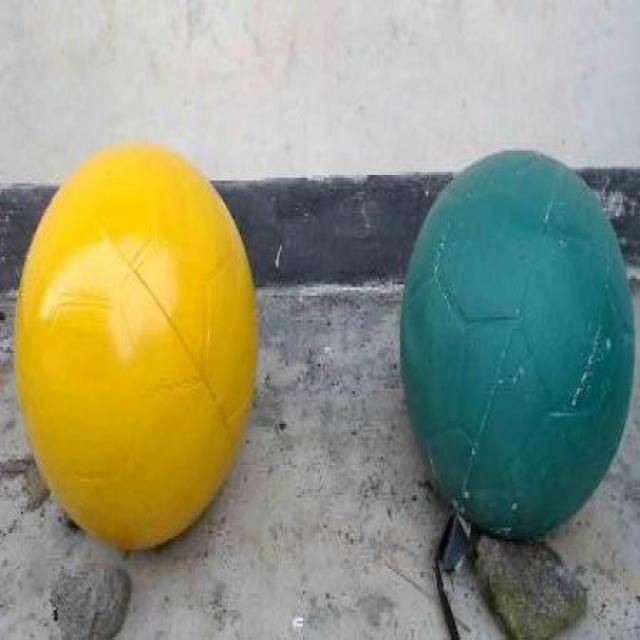buoy: (13, 141, 257, 549), (398, 147, 636, 538)
